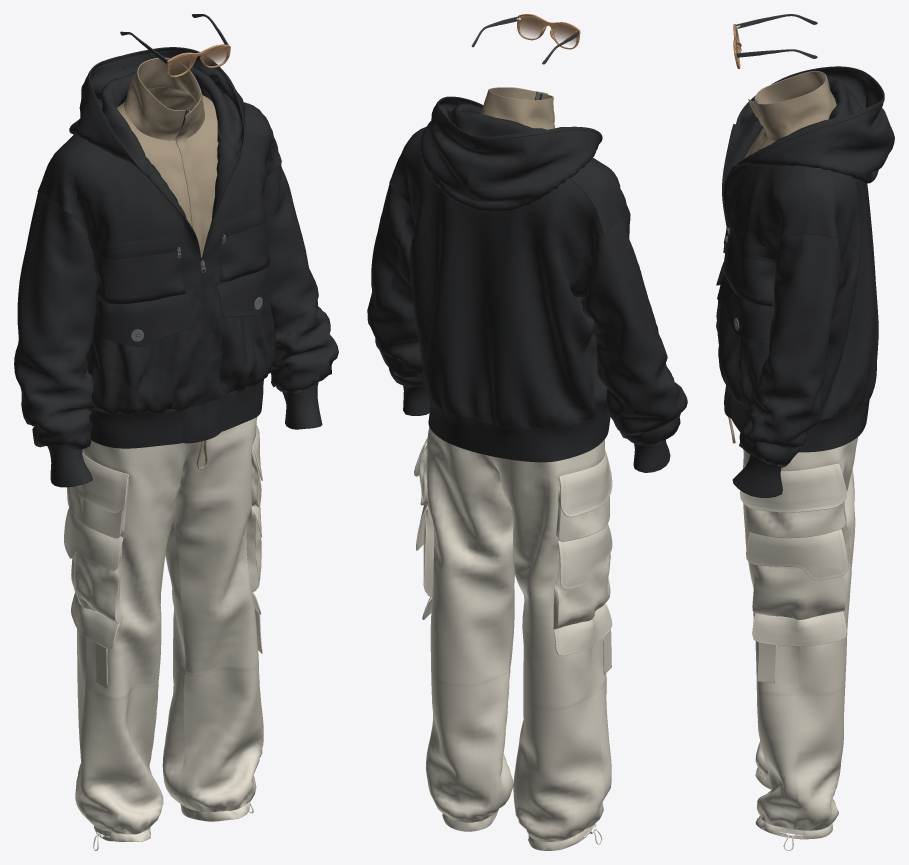
File: sweatshirt_and_jacket_and_workwear_pants copia.glb
3 views of the same model, side by side, from view 1: azimuth 30°, elevation 25°; view 2: azimuth 150°, elevation 25°; view 3: azimuth 270°, elevation 25° (orthographic). The views are drawn at different scales.
Visible parts, largest first — view 1: Object_35, Object_30, Object_31, Object_29, Object_26, Object_28, Object_32, Object_34, Object_33, Object_24, Object_25, Object_20 (+5 smaller); view 2: Object_29, Object_25, Object_26, Object_28, Object_30, Object_34, Object_31, Object_33, Object_35, Object_24, Object_32, Object_27 (+3 smaller); view 3: Object_31, Object_29, Object_25, Object_35, Object_33, Object_30, Object_24, Object_28, Object_21, Object_34, Object_27, Object_26 (+4 smaller).
Part boxes in pixels (bbox=[...]): Object_35: bbox=[67, 251, 263, 841]; Object_30: bbox=[72, 328, 263, 696]; Object_31: bbox=[51, 57, 338, 443]; Object_29: bbox=[14, 95, 261, 570]; Object_26: bbox=[75, 417, 258, 828]; Object_28: bbox=[73, 125, 274, 415]; Object_32: bbox=[37, 99, 218, 487]; Object_34: bbox=[69, 76, 269, 819]; Object_33: bbox=[90, 50, 245, 535]; Object_24: bbox=[71, 58, 261, 623]; Object_25: bbox=[162, 502, 192, 809]; Object_20: bbox=[96, 109, 270, 469]; Object_29: bbox=[389, 145, 687, 589]; Object_25: bbox=[425, 427, 514, 822]; Object_26: bbox=[490, 448, 604, 841]; Object_28: bbox=[381, 213, 644, 445]; Object_30: bbox=[414, 394, 612, 691]; Object_34: bbox=[421, 130, 611, 831]; Object_31: bbox=[367, 87, 630, 415]; Object_33: bbox=[420, 99, 565, 539]; Object_35: bbox=[419, 443, 611, 850]; Object_24: bbox=[422, 87, 610, 629]; Object_32: bbox=[536, 91, 670, 472]; Object_27: bbox=[418, 512, 612, 656]; Object_31: bbox=[716, 71, 841, 497]; Object_29: bbox=[746, 172, 878, 580]; Object_25: bbox=[791, 437, 857, 830]; Object_35: bbox=[723, 228, 845, 837]; Object_33: bbox=[739, 69, 894, 183]; Object_30: bbox=[716, 301, 871, 512]; Object_24: bbox=[752, 71, 845, 619]; Object_28: bbox=[718, 120, 839, 461]; Object_21: bbox=[736, 66, 884, 237]; Object_34: bbox=[722, 108, 892, 839]; Object_27: bbox=[752, 104, 846, 646]; Object_26: bbox=[743, 449, 855, 692].
Size of the model in its own units: 671 by 1699 by 353.
21 materials, 3 textured.
